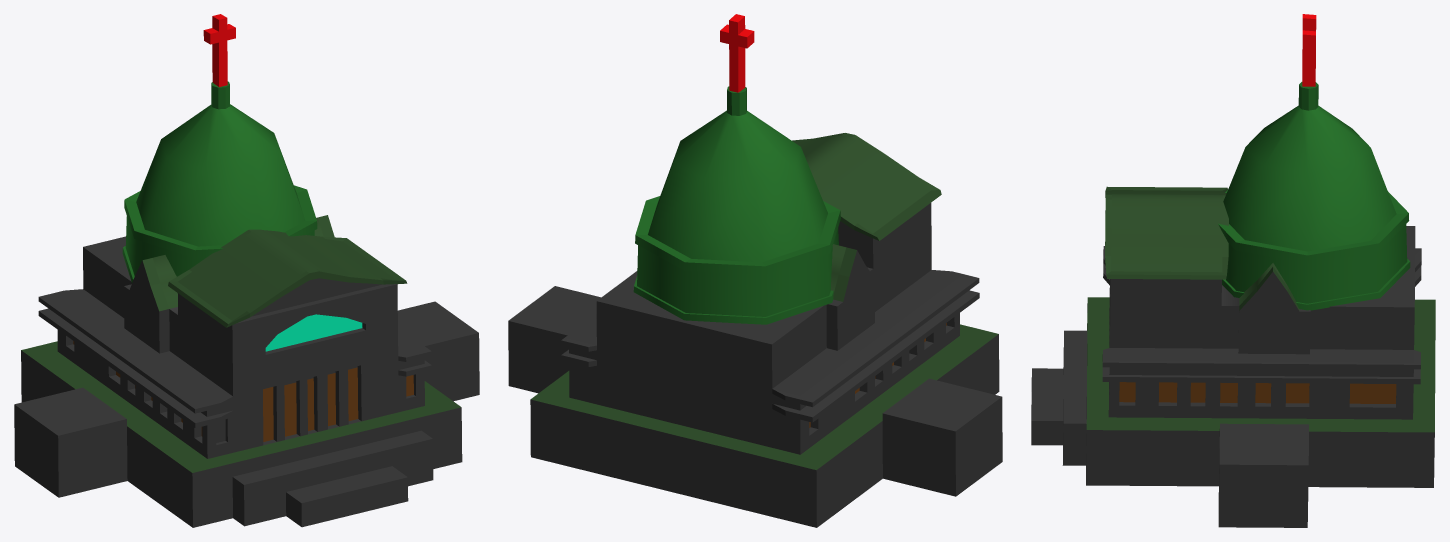
The model's file is MOD_Oratoire.FBX.
3 renders of one model, left to right at view 1: azimuth 30°, elevation 25°; view 2: azimuth 150°, elevation 25°; view 3: azimuth 270°, elevation 25°, orthographic. The views are drawn at different scales.
Parts seen in each view (by area): view 1: Oratoire, oratoire, croix001; view 2: Oratoire, oratoire, croix001; view 3: Oratoire, oratoire, croix001.
Part boxes in pixels (x1,y1,x2,y2): Oratoire: (14,215,479,527); oratoire: (122,81,317,282); croix001: (203,14,235,87); Oratoire: (508,133,1002,527); oratoire: (633,86,840,324); croix001: (720,14,754,92); Oratoire: (1031,186,1435,527); oratoire: (1218,82,1410,310); croix001: (1302,14,1316,86).
Bounding box in the file's own units: 77.74 × 70.74 × 63.75.
